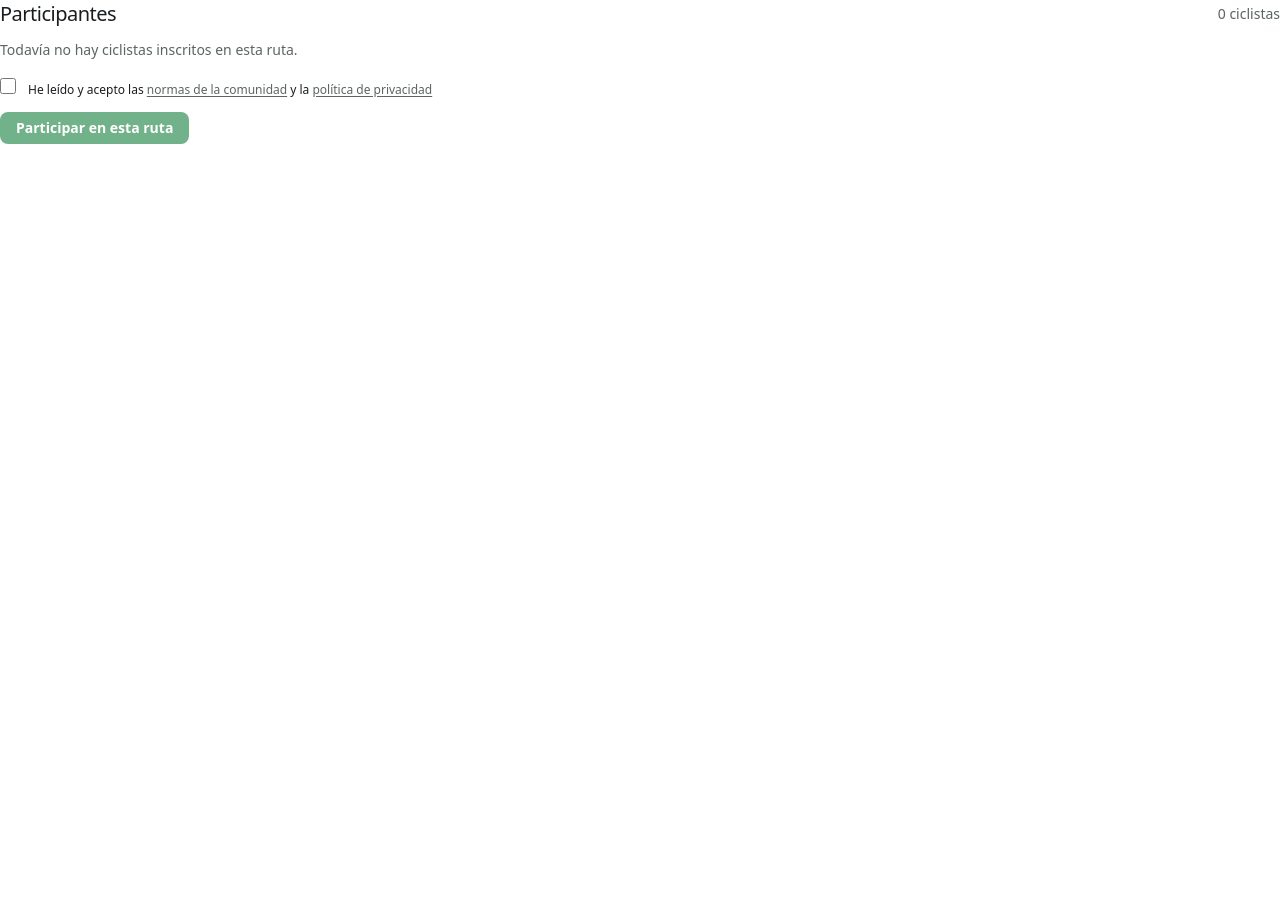
Test: RideParticipants › opens the privacy policy from the inline link without toggling the checkbox
The width and height of the screenshot is (1280, 900).
Click the button "política de privacidad".
click(372, 90)  # box [312,82,432,98]
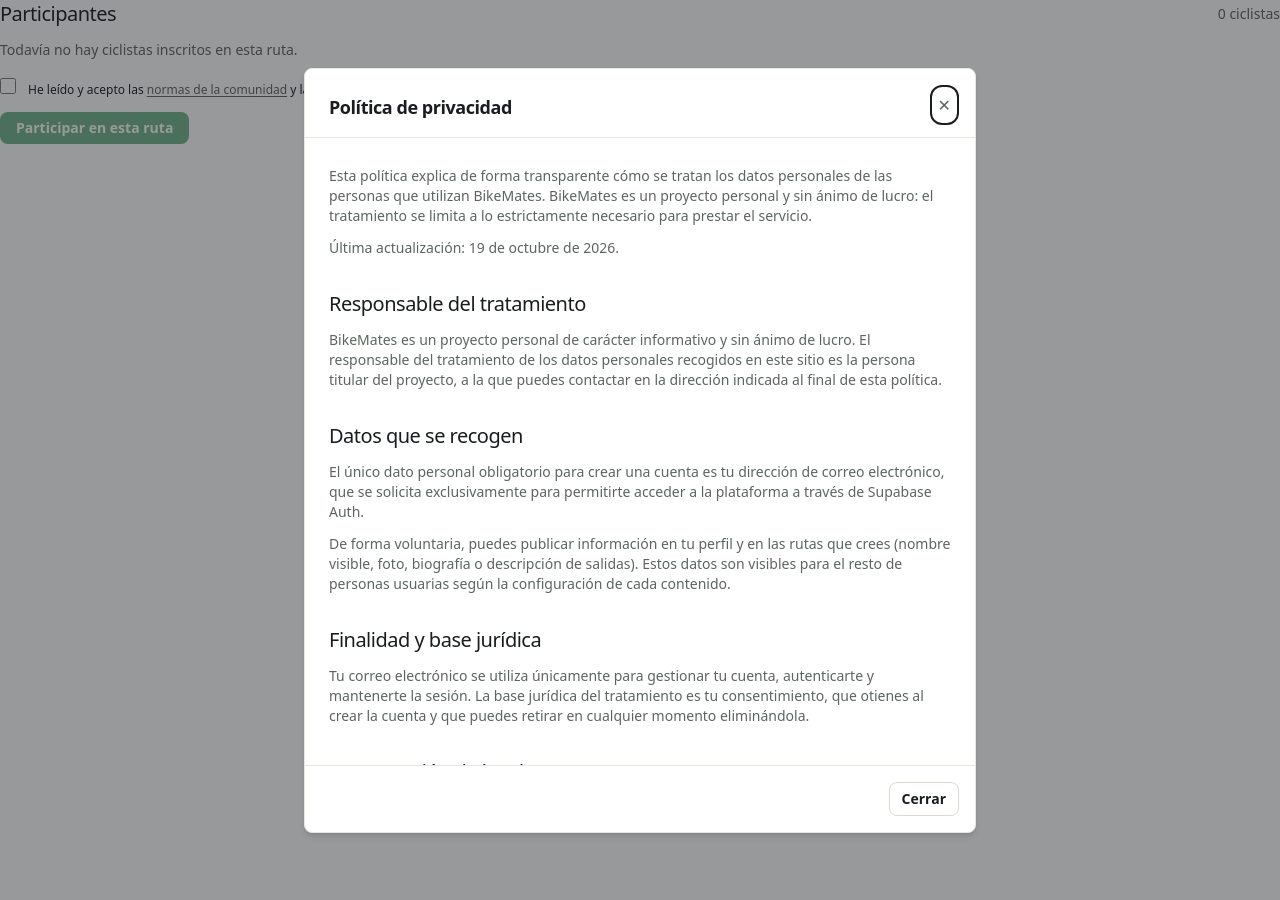
Expected: the dialog shows "Política de privacidad", [329,94,512,118]
